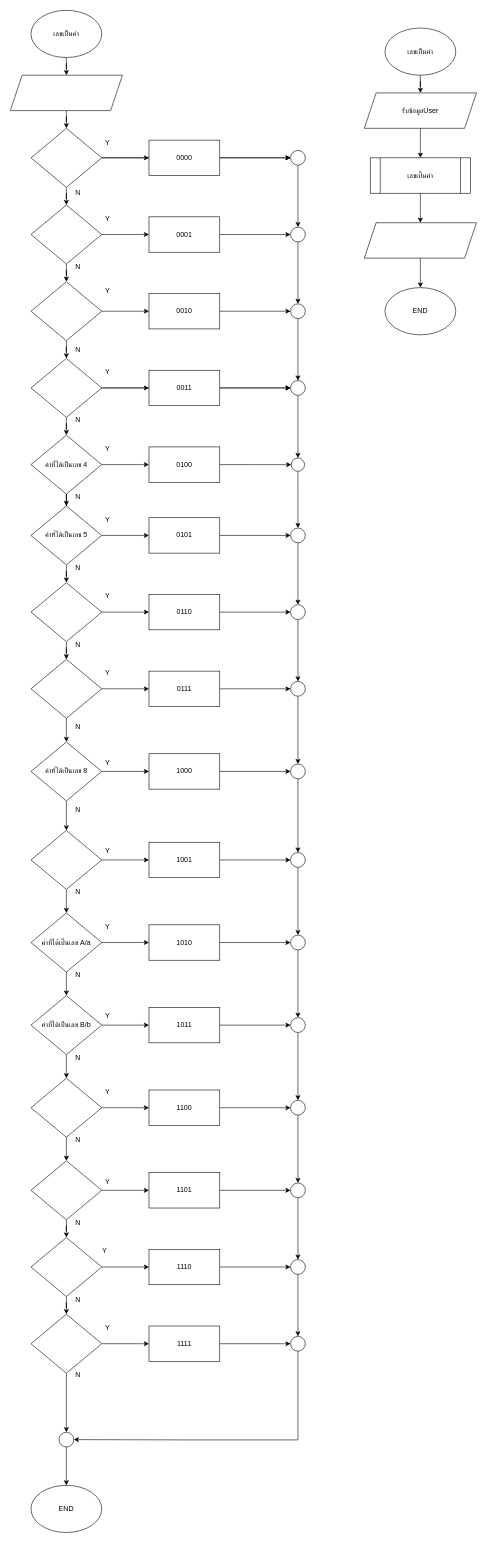
This 487x1543 diagram has some shape labels left out. Each missing label, with the box of its shape:
ข้อมูล User: (10, 75, 122, 111)
ค่าที่ได้เป็นเลข 0: (30, 128, 102, 187)
ค่าที่ได้เป็นเลข 1: (30, 204, 102, 264)
ค่าที่ได้เป็นเลข 2: (30, 281, 102, 341)
ค่าที่ได้เป็นเลข 3: (30, 358, 102, 417)
ค่าที่ได้เป็นเลข 6: (30, 582, 102, 642)
ค่าที่ได้เป็นเลข 7: (30, 659, 102, 718)
ค่าที่ได้เป็นเลข 9: (30, 830, 102, 889)
ค่าที่ได้เป็นเลข C/c: (30, 1078, 102, 1137)
ค่าที่ได้เป็นเลขD/d: (30, 1160, 102, 1220)
ค่าที่ได้เป็นเลขE/e: (30, 1237, 102, 1297)
ค่าที่ได้เป็นเลขF/f: (30, 1314, 102, 1373)
แสดงเลขที่ถูกแปลง: (364, 222, 476, 258)
